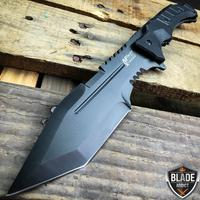knife: (4, 5, 192, 198)
